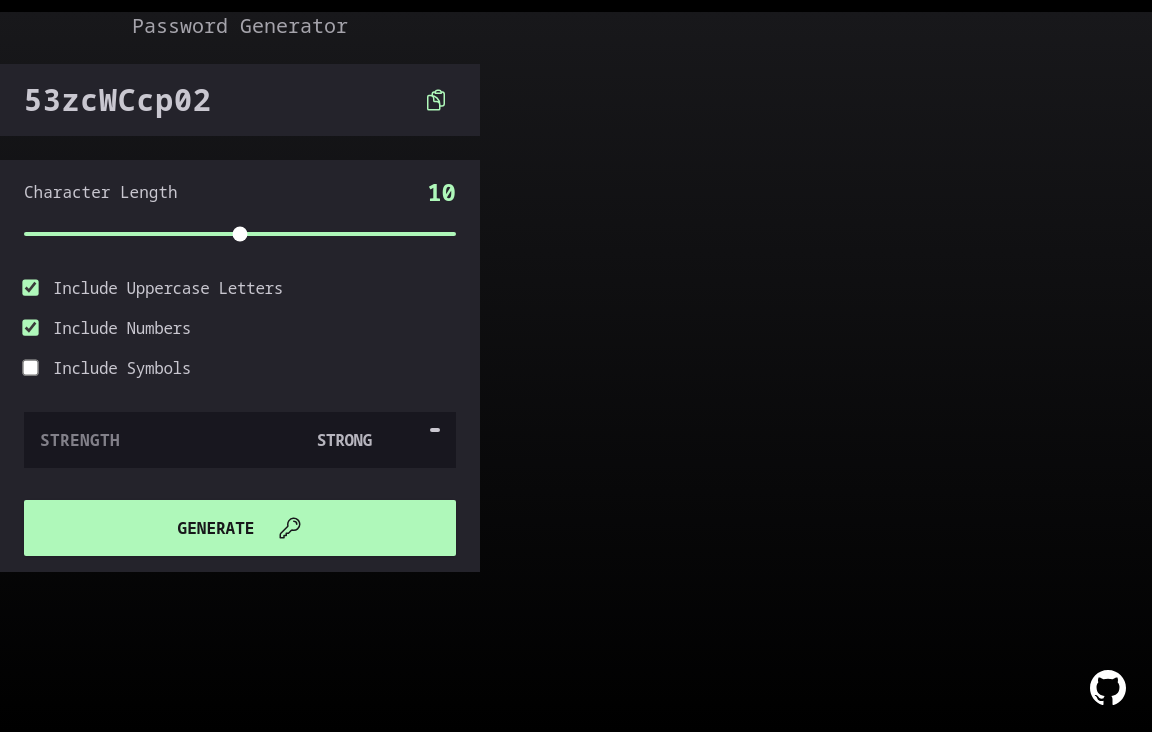
it: PasswordGenerator alerts › Alert is rendered on clicking password
Click the text named "Copy to clipboard": (118, 100) [24,82,212,118]
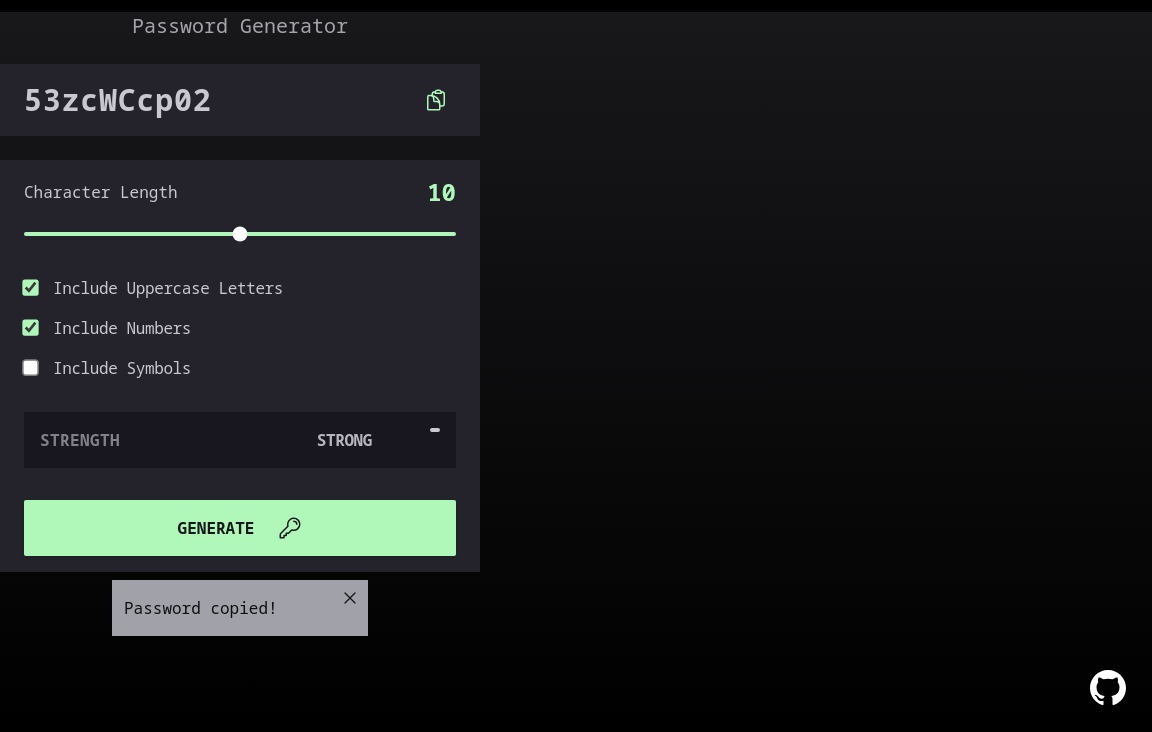
Result: the message "Password copied!" is shown at [112,580,368,636]
